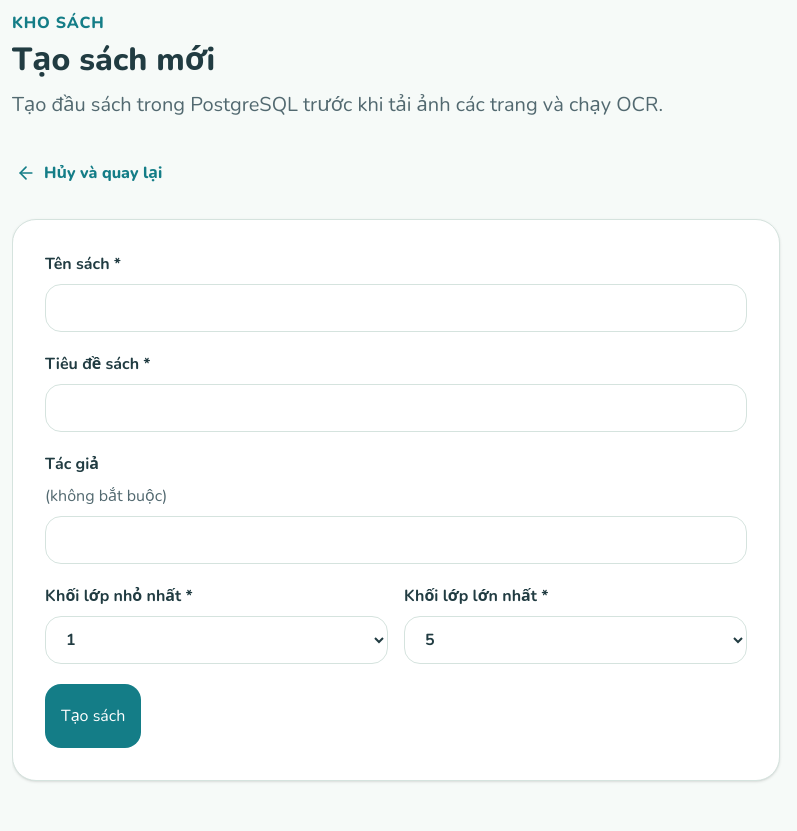
Test: AdminNewBookScreen › rejects an empty title
Type "Tên riêng" into the field labelled "Tên sách *" at coordinates (396, 308), box [45,284,747,332]
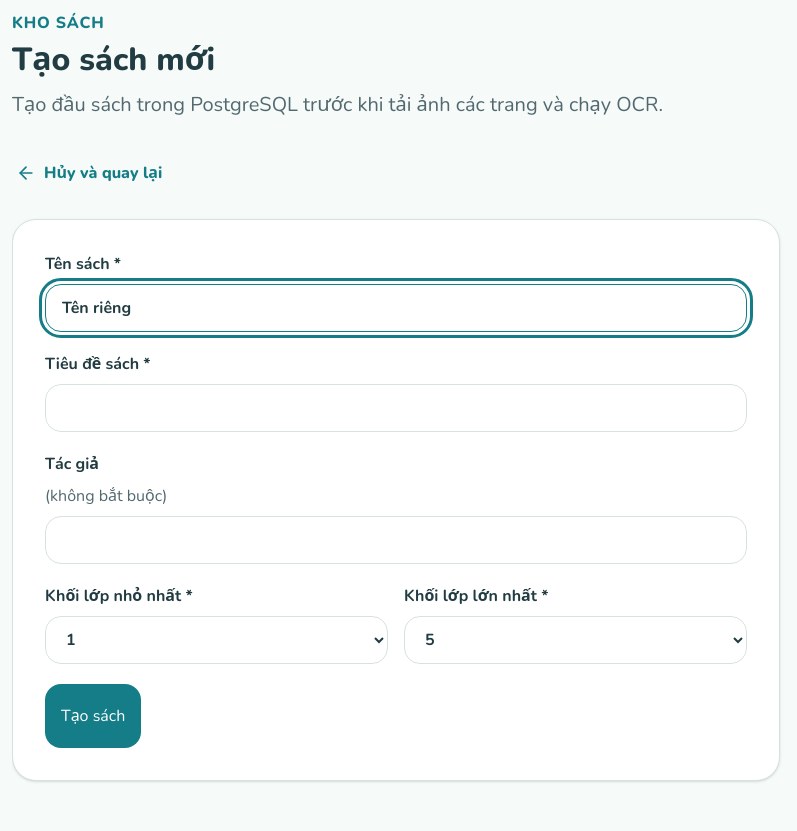
Click the button "Tạo sách" at coordinates (93, 716), box [45,684,141,748]
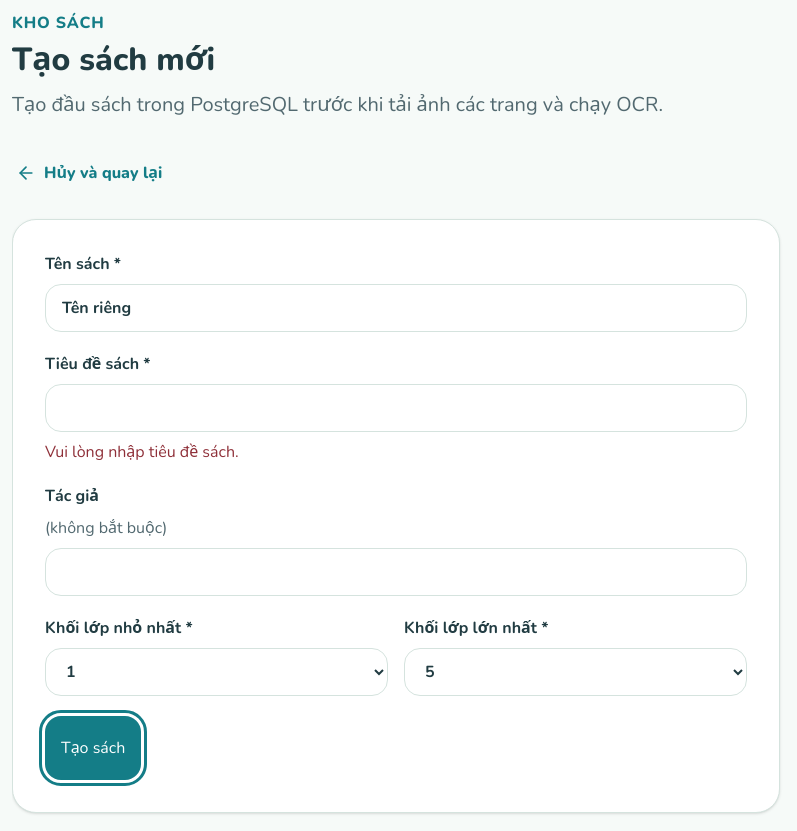
Expected: the field labelled "Tiêu đề sách *" is empty, [45,384,747,432]
Result: the message reads "Vui lòng nhập tiêu đề sách." at [45,441,239,463]
